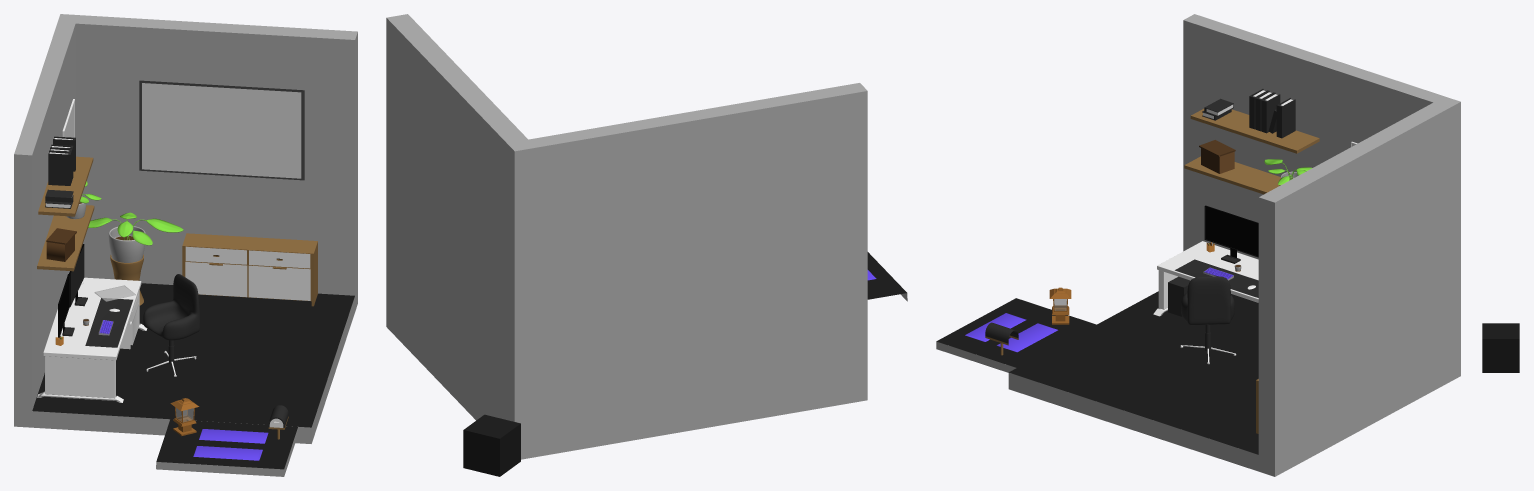
File: finish.glb
3 views of the same model, side by side, from view 1: azimuth 30°, elevation 25°; view 2: azimuth 150°, elevation 25°; view 3: azimuth 270°, elevation 25° (orthographic). The views are drawn at different scales.
Parts seen in each view (by area): view 1: body, Board, Desks, Shelves, Minifloor, Deskobj, Chair, Computers, floorsec, floorfirst, floor items, floorLamp (+1 smaller); view 2: body, Cube, Minifloor; view 3: body, Shelves, Minifloor, Desks, Chair, Computers, Cube, Deskobj, floor items, floorfirst, floorLamp.
Part boxes in pixels (box(x1,y1,x2,y2)): body: box(14, 14, 357, 443); Board: box(182, 233, 317, 306); Desks: box(37, 254, 147, 402); Shelves: box(37, 136, 101, 271); Minifloor: box(156, 419, 298, 476); Deskobj: box(55, 212, 183, 347); Chair: box(143, 274, 199, 340); Computers: box(58, 244, 87, 337); floorsec: box(193, 446, 262, 460); floorfirst: box(199, 429, 268, 443); floor items: box(120, 292, 196, 376); floorLamp: box(170, 398, 199, 435); body: box(386, 14, 867, 459); Cube: box(463, 414, 520, 476); Minifloor: box(867, 252, 907, 301); body: box(1008, 14, 1460, 476); Shelves: box(1184, 89, 1319, 194); Minifloor: box(936, 298, 1096, 372); Desks: box(1153, 241, 1258, 316); Chair: box(1181, 276, 1234, 325); Computers: box(1204, 205, 1258, 263); Cube: box(1482, 323, 1519, 372); Deskobj: box(1175, 242, 1258, 297); floor items: box(1168, 276, 1236, 364); floorfirst: box(997, 323, 1057, 352); floorLamp: box(1049, 287, 1071, 324).
Bounding box in the file's own units: 23.94 × 16.23 × 31.29.
